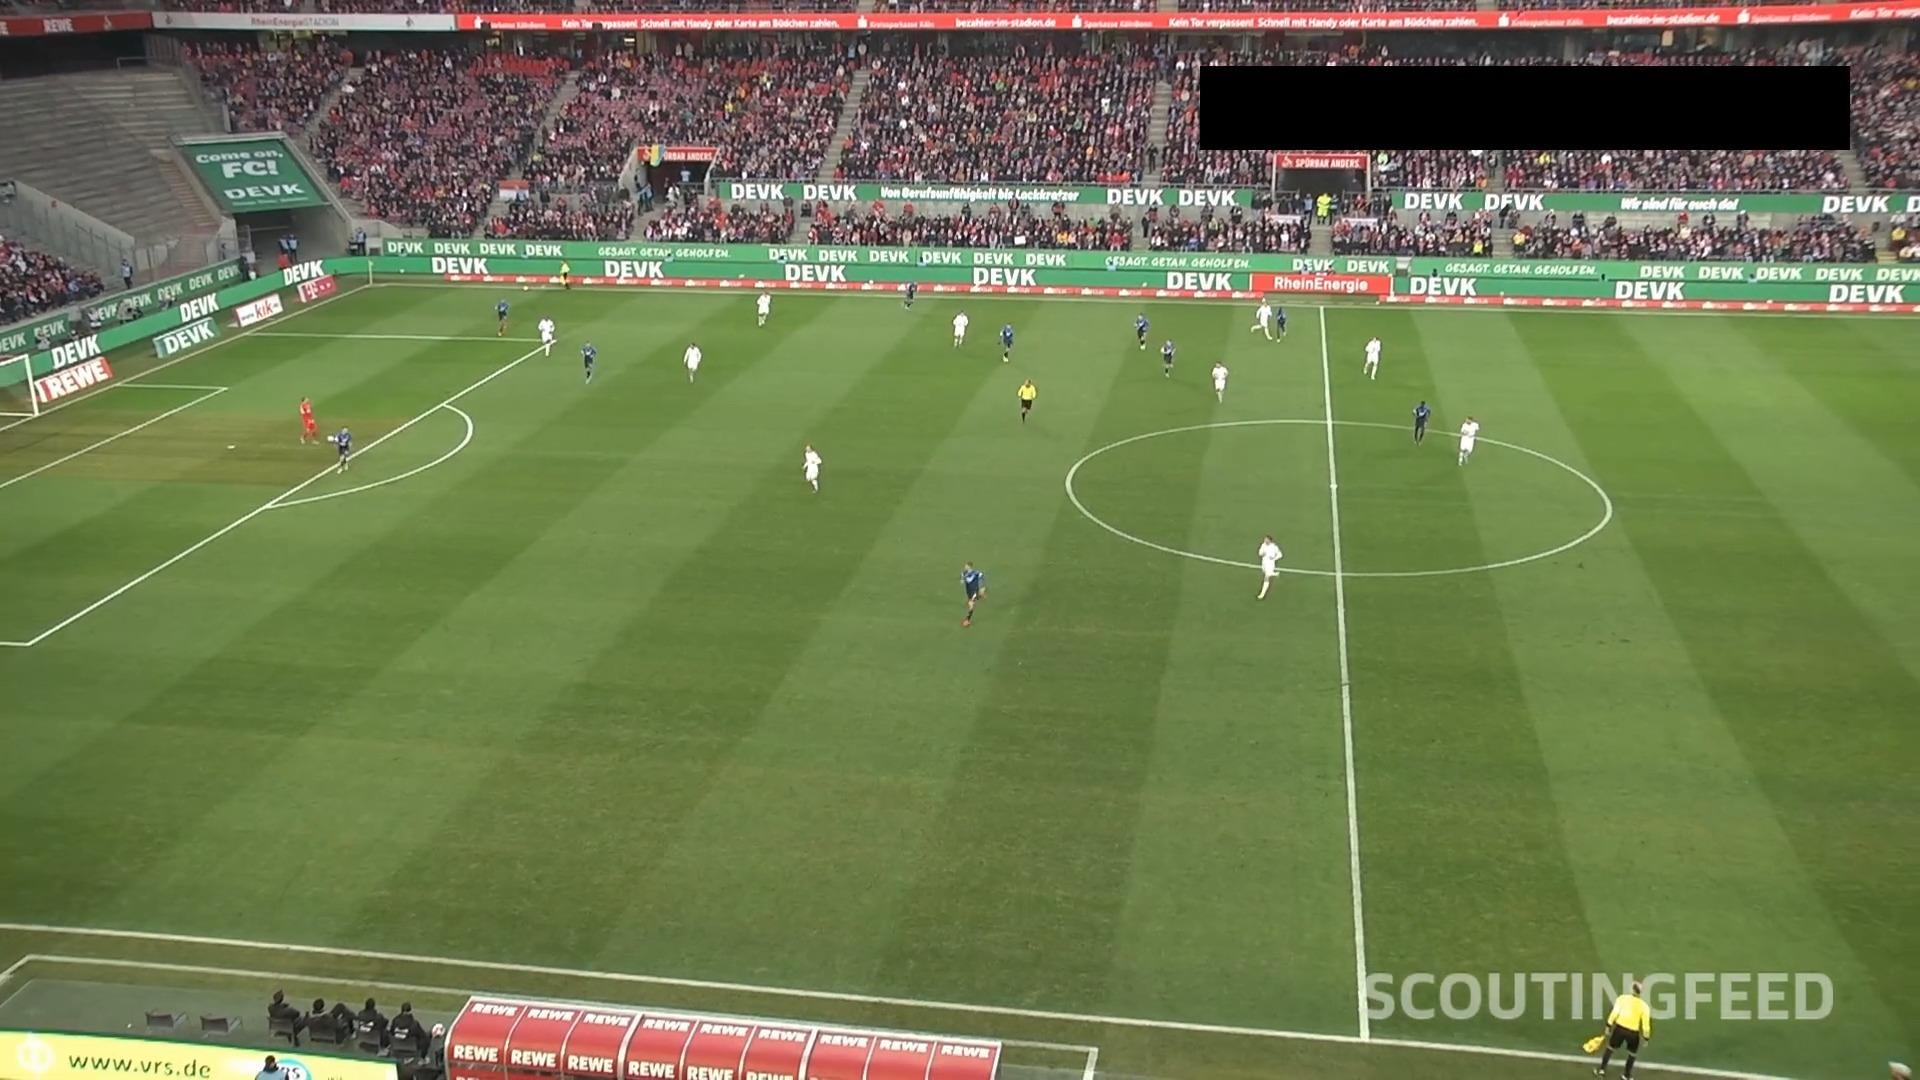ball: (326, 433, 336, 443)
